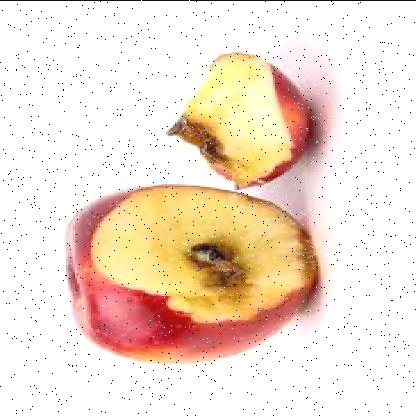damaged_apple: (68, 185, 312, 363), (150, 53, 314, 189)
